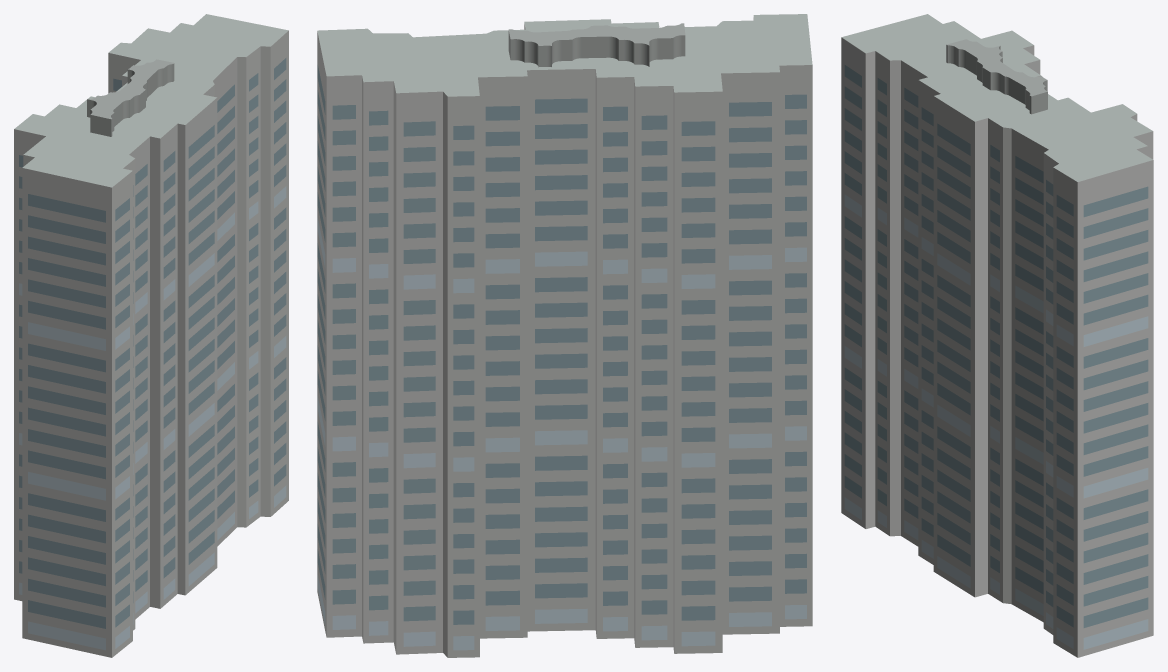
File: fallback-godeok-arteon-completion-337.glb
3 views of the same model, side by side, from view 1: azimuth 30°, elevation 25°; view 2: azimuth 150°, elevation 25°; view 3: azimuth 270°, elevation 25° (orthographic). The views are drawn at different scales.
Visible parts, largest first — view 1: fallback-godeok-arteon-completion-337; view 2: fallback-godeok-arteon-completion-337; view 3: fallback-godeok-arteon-completion-337.
Part boxes in pixels (x1,y1,x2,y2): fallback-godeok-arteon-completion-337: (14,14,288,657); fallback-godeok-arteon-completion-337: (317,14,812,657); fallback-godeok-arteon-completion-337: (841,14,1153,657).
Size of the model in its own units: 48.23 by 66 by 37.83.
